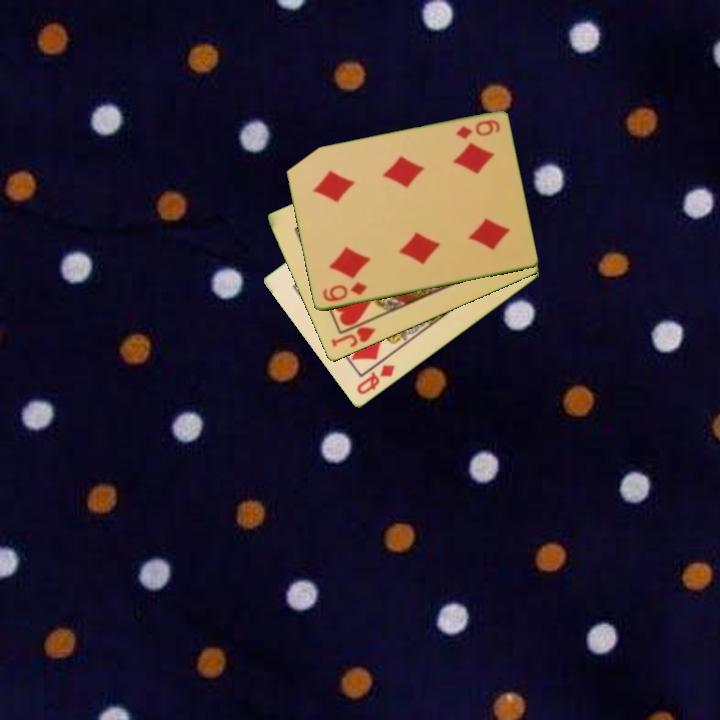6d: (452, 116, 503, 143), (319, 279, 370, 305)
Jh: (327, 324, 379, 351)
Qd: (353, 361, 398, 398)
